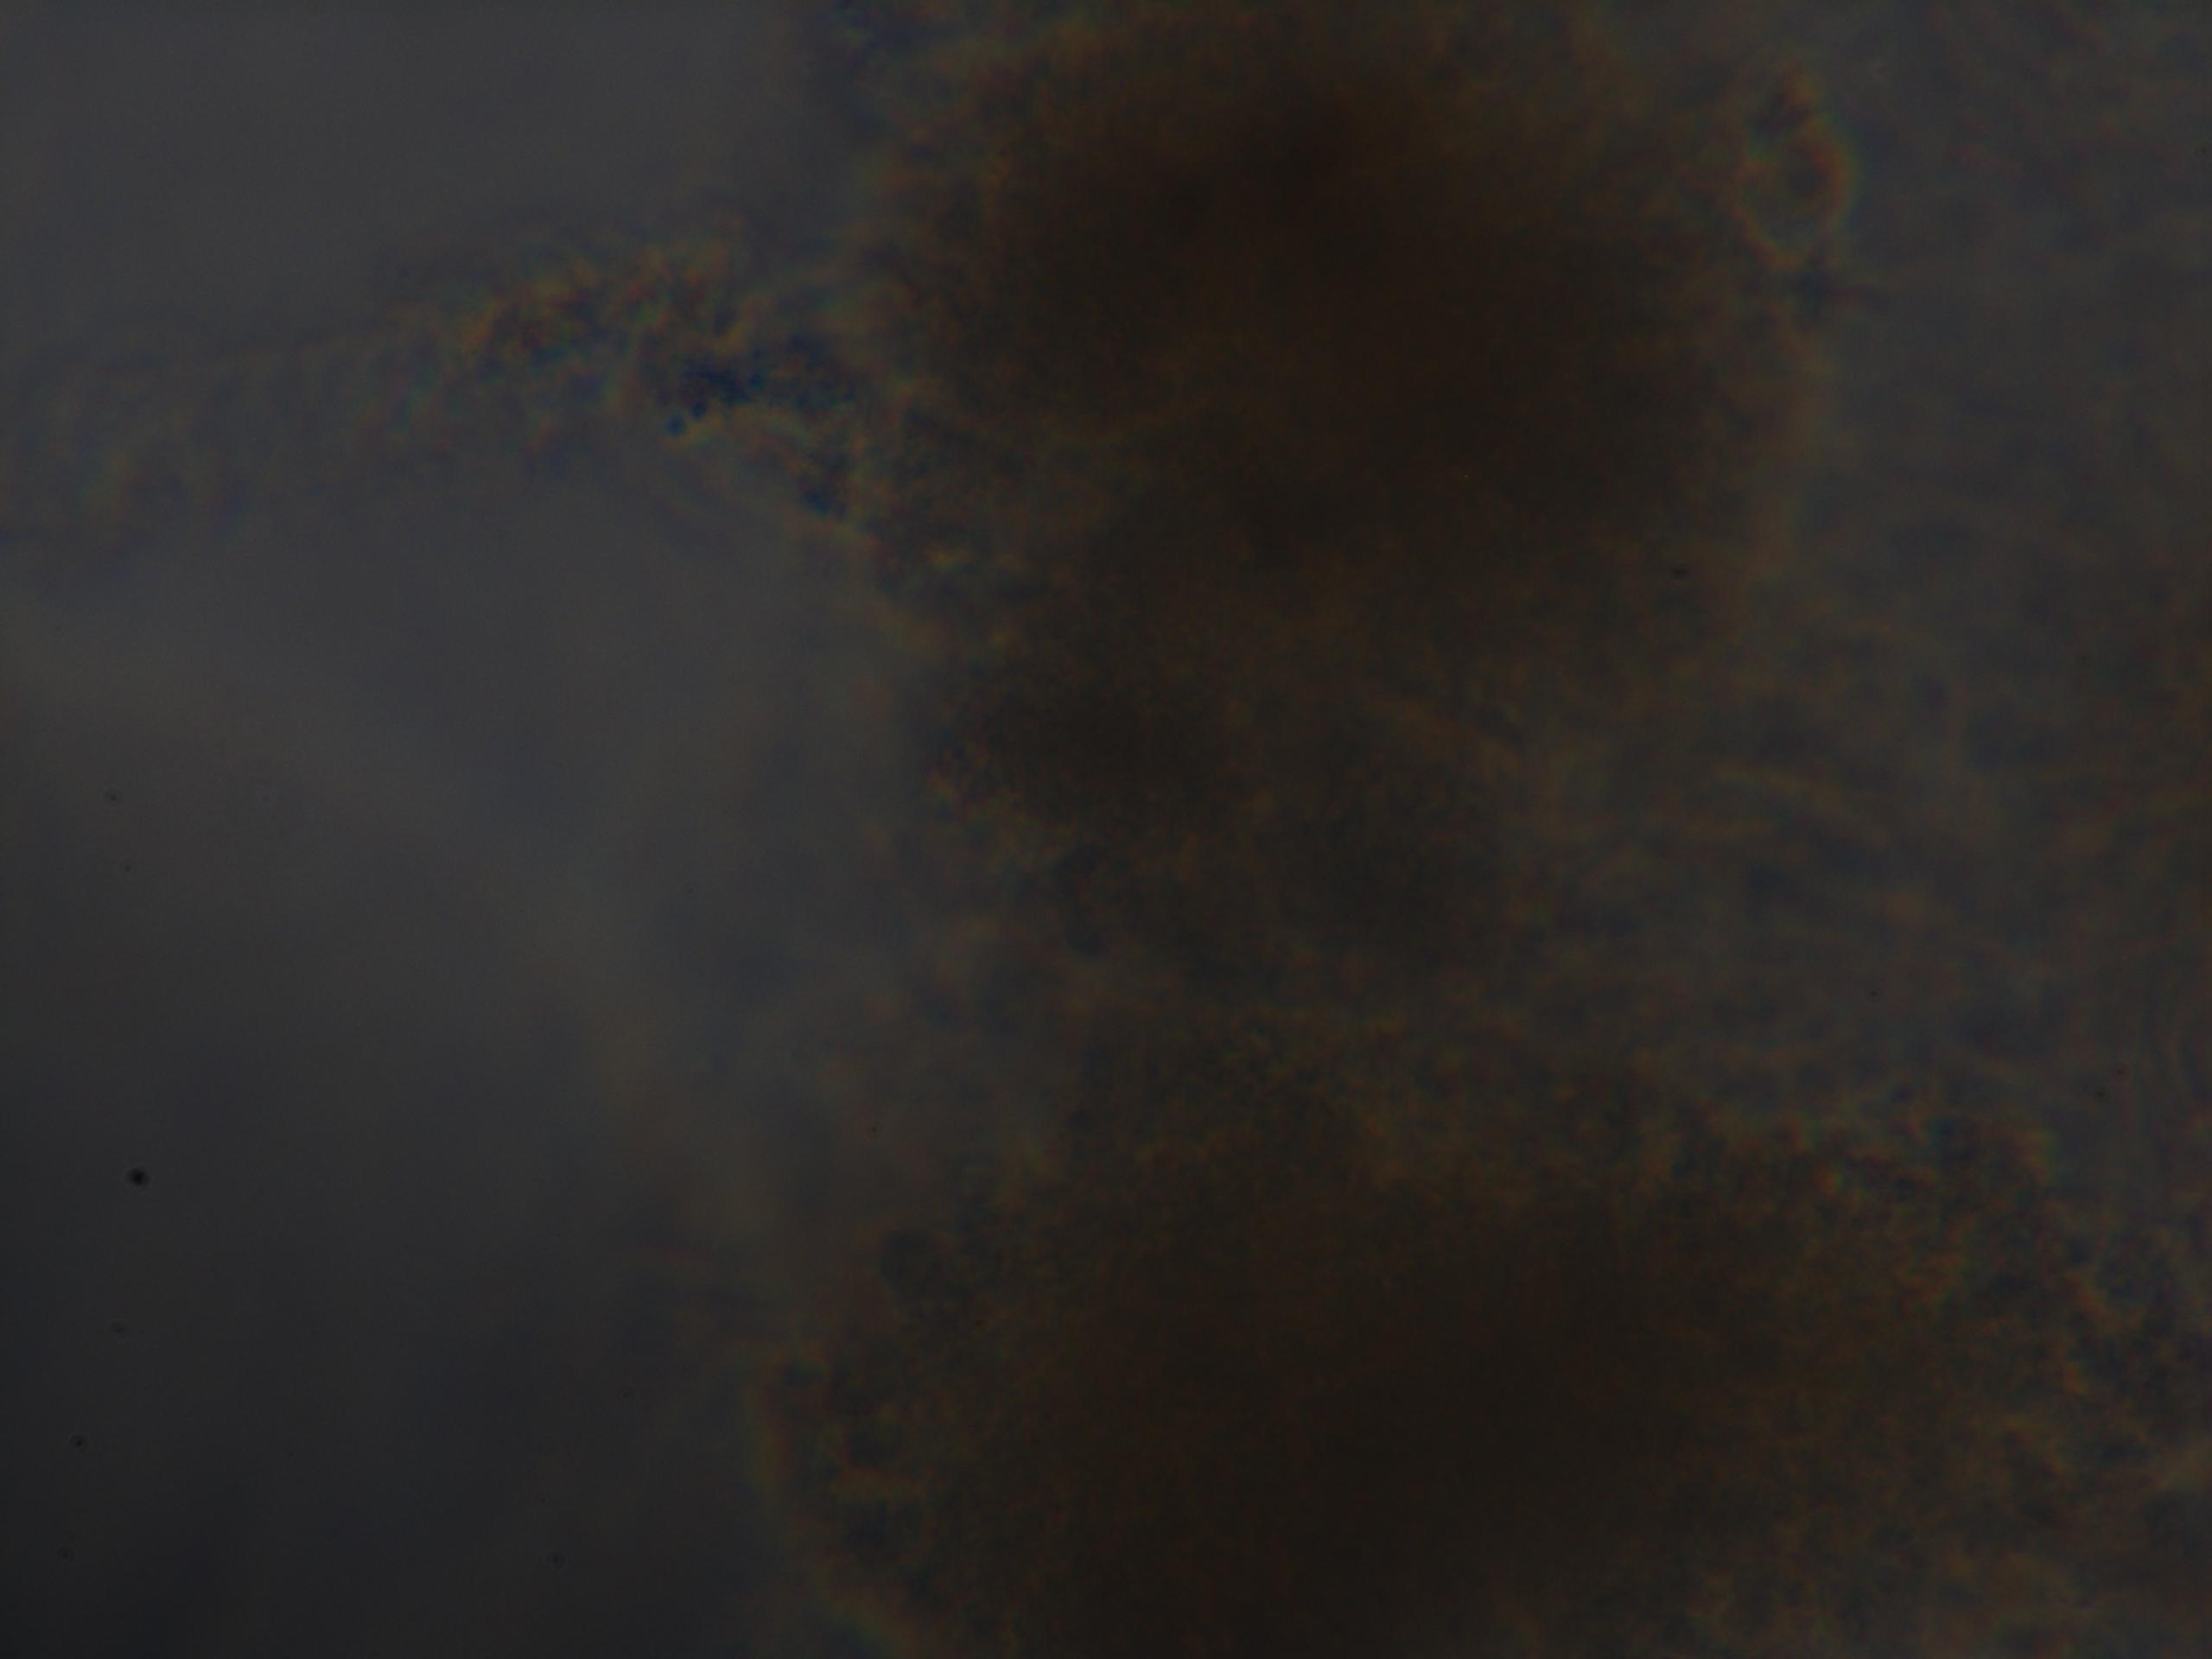spherical_floc: (820, 0, 1827, 974), (737, 997, 2191, 1659)
